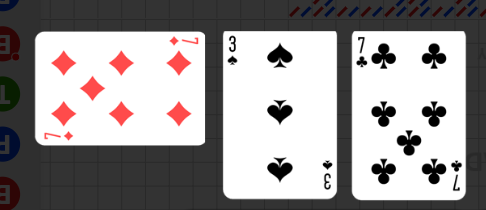7C: (449, 158, 463, 192)
7D: (167, 34, 200, 47), (43, 130, 75, 142)
